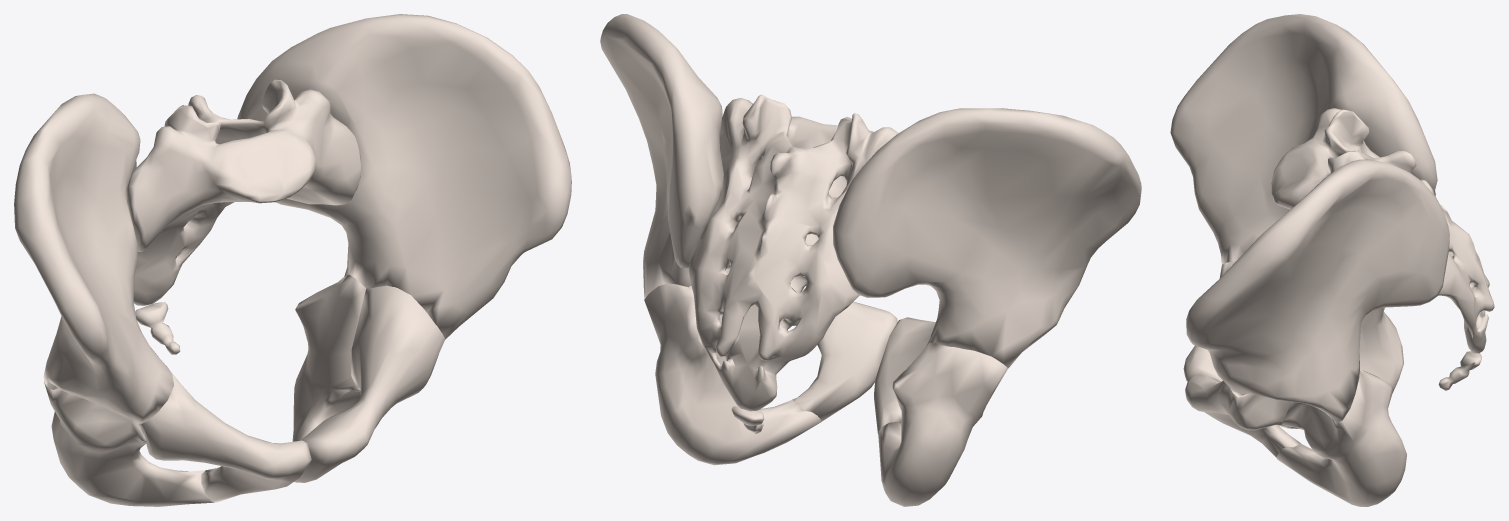
File: vh_m_pelvis.glb
3 views of the same model, side by side, from view 1: azimuth 30°, elevation 25°; view 2: azimuth 150°, elevation 25°; view 3: azimuth 270°, elevation 25° (orthographic). The views are drawn at different scales.
Parts seen in each view (by area): view 1: VH_M_ilium_compact_bone_L, VH_M_ilium_compact_bone_R, VH_M_sacrum, VH_M_pubis_compact_bone_L, VH_M_ischium_compact_bone_R, VH_M_pubis_compact_bone_R, VH_M_ischium_compact_bone_L, VH_M_coccyx; view 2: VH_M_ilium_compact_bone_R, VH_M_sacrum, VH_M_ilium_compact_bone_L, VH_M_ischium_compact_bone_L, VH_M_ischium_compact_bone_R, VH_M_pubis_compact_bone_L, VH_M_pubis_compact_bone_R; view 3: VH_M_ilium_compact_bone_L, VH_M_ilium_compact_bone_R, VH_M_ischium_compact_bone_L, VH_M_sacrum, VH_M_pubis_compact_bone_L, VH_M_ischium_compact_bone_R, VH_M_pubis_compact_bone_R, VH_M_coccyx.
Part boxes in pixels (x1,y1,x2,y2): VH_M_ilium_compact_bone_L: (237,14,571,339); VH_M_ilium_compact_bone_R: (14,93,174,423); VH_M_sacrum: (126,79,360,305); VH_M_pubis_compact_bone_L: (294,285,445,482); VH_M_ischium_compact_bone_R: (44,381,214,506); VH_M_pubis_compact_bone_R: (137,369,311,502); VH_M_ischium_compact_bone_L: (292,274,366,441); VH_M_coccyx: (135,302,180,354); VH_M_ilium_compact_bone_R: (833,108,1141,368); VH_M_sacrum: (688,94,898,411); VH_M_ilium_compact_bone_L: (600,14,723,298); VH_M_ischium_compact_bone_L: (644,268,821,465); VH_M_ischium_compact_bone_R: (878,342,1007,506); VH_M_pubis_compact_bone_L: (792,286,897,421); VH_M_pubis_compact_bone_R: (874,317,935,434); VH_M_ilium_compact_bone_L: (1186,159,1449,422); VH_M_ilium_compact_bone_R: (1170,14,1437,265); VH_M_ischium_compact_bone_L: (1276,368,1406,506); VH_M_sacrum: (1271,108,1494,353); VH_M_pubis_compact_bone_L: (1185,374,1300,457); VH_M_ischium_compact_bone_R: (1287,307,1403,428); VH_M_pubis_compact_bone_R: (1183,261,1291,427); VH_M_coccyx: (1438,351,1481,390).
Bounding box in the file's own units: 0.2835 × 0.2186 × 0.1729.
